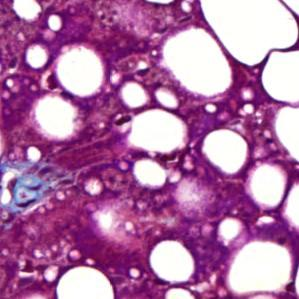steatosis: (51, 46, 108, 96), (127, 113, 191, 156), (201, 129, 250, 176), (147, 240, 196, 282)
